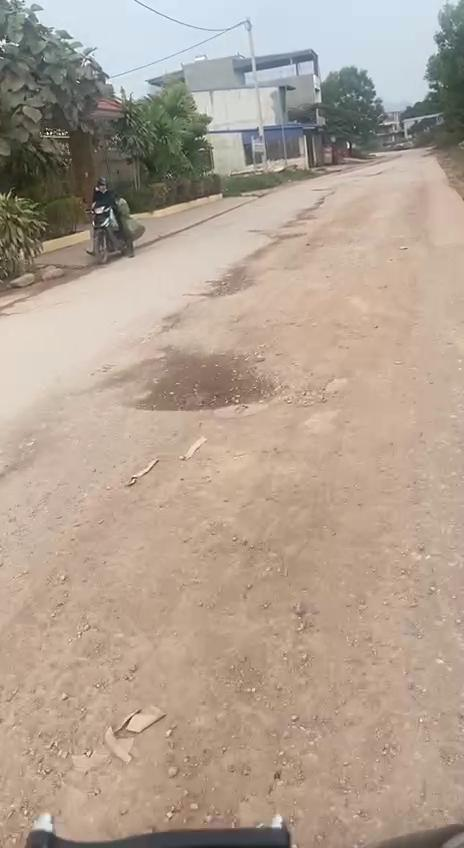pothole: (275, 256, 430, 410), (112, 335, 294, 421), (201, 259, 265, 299)
